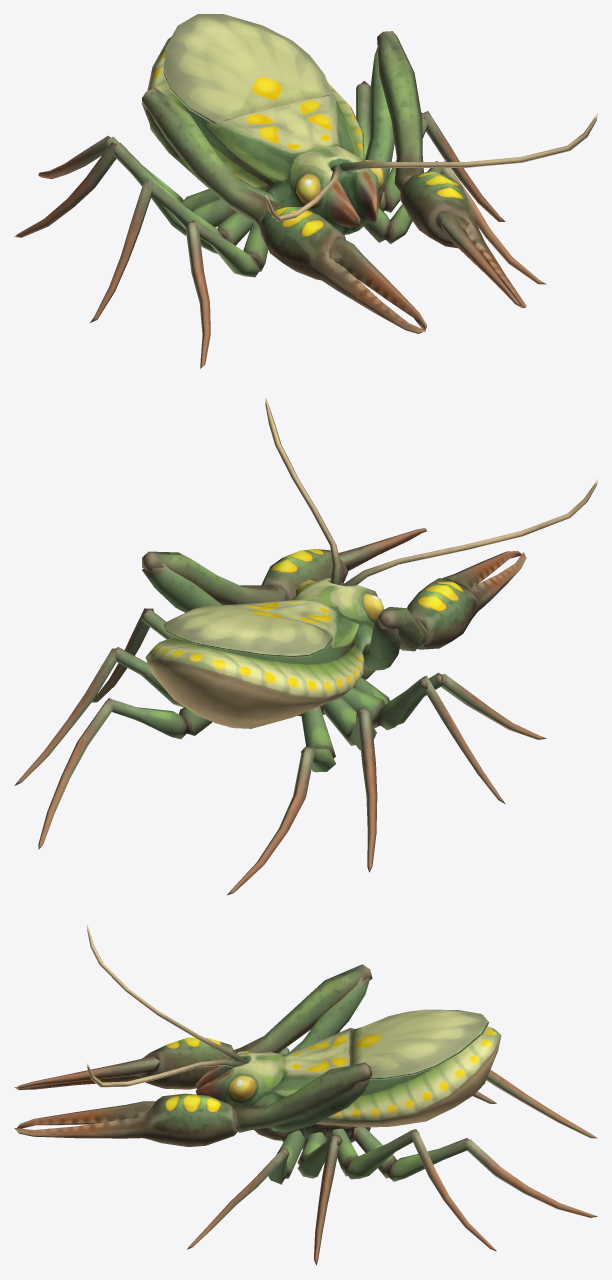
Rendered from Critter_Golden_REGEXPORT.fbx.
3 renders of one model, top to bottom at view 1: azimuth 30°, elevation 25°; view 2: azimuth 150°, elevation 25°; view 3: azimuth 270°, elevation 25°, orthographic. The views are drawn at different scales.
Parts seen in each view (by area): view 1: polySurface16; view 2: polySurface16; view 3: polySurface16.
Boxes of the visible parts, box(x1,y1,x2,y2) form: polySurface16: box(14, 14, 597, 368); polySurface16: box(14, 398, 597, 895); polySurface16: box(14, 925, 597, 1265).
Size of the model in its own units: 69.32 by 34.59 by 98.6.
